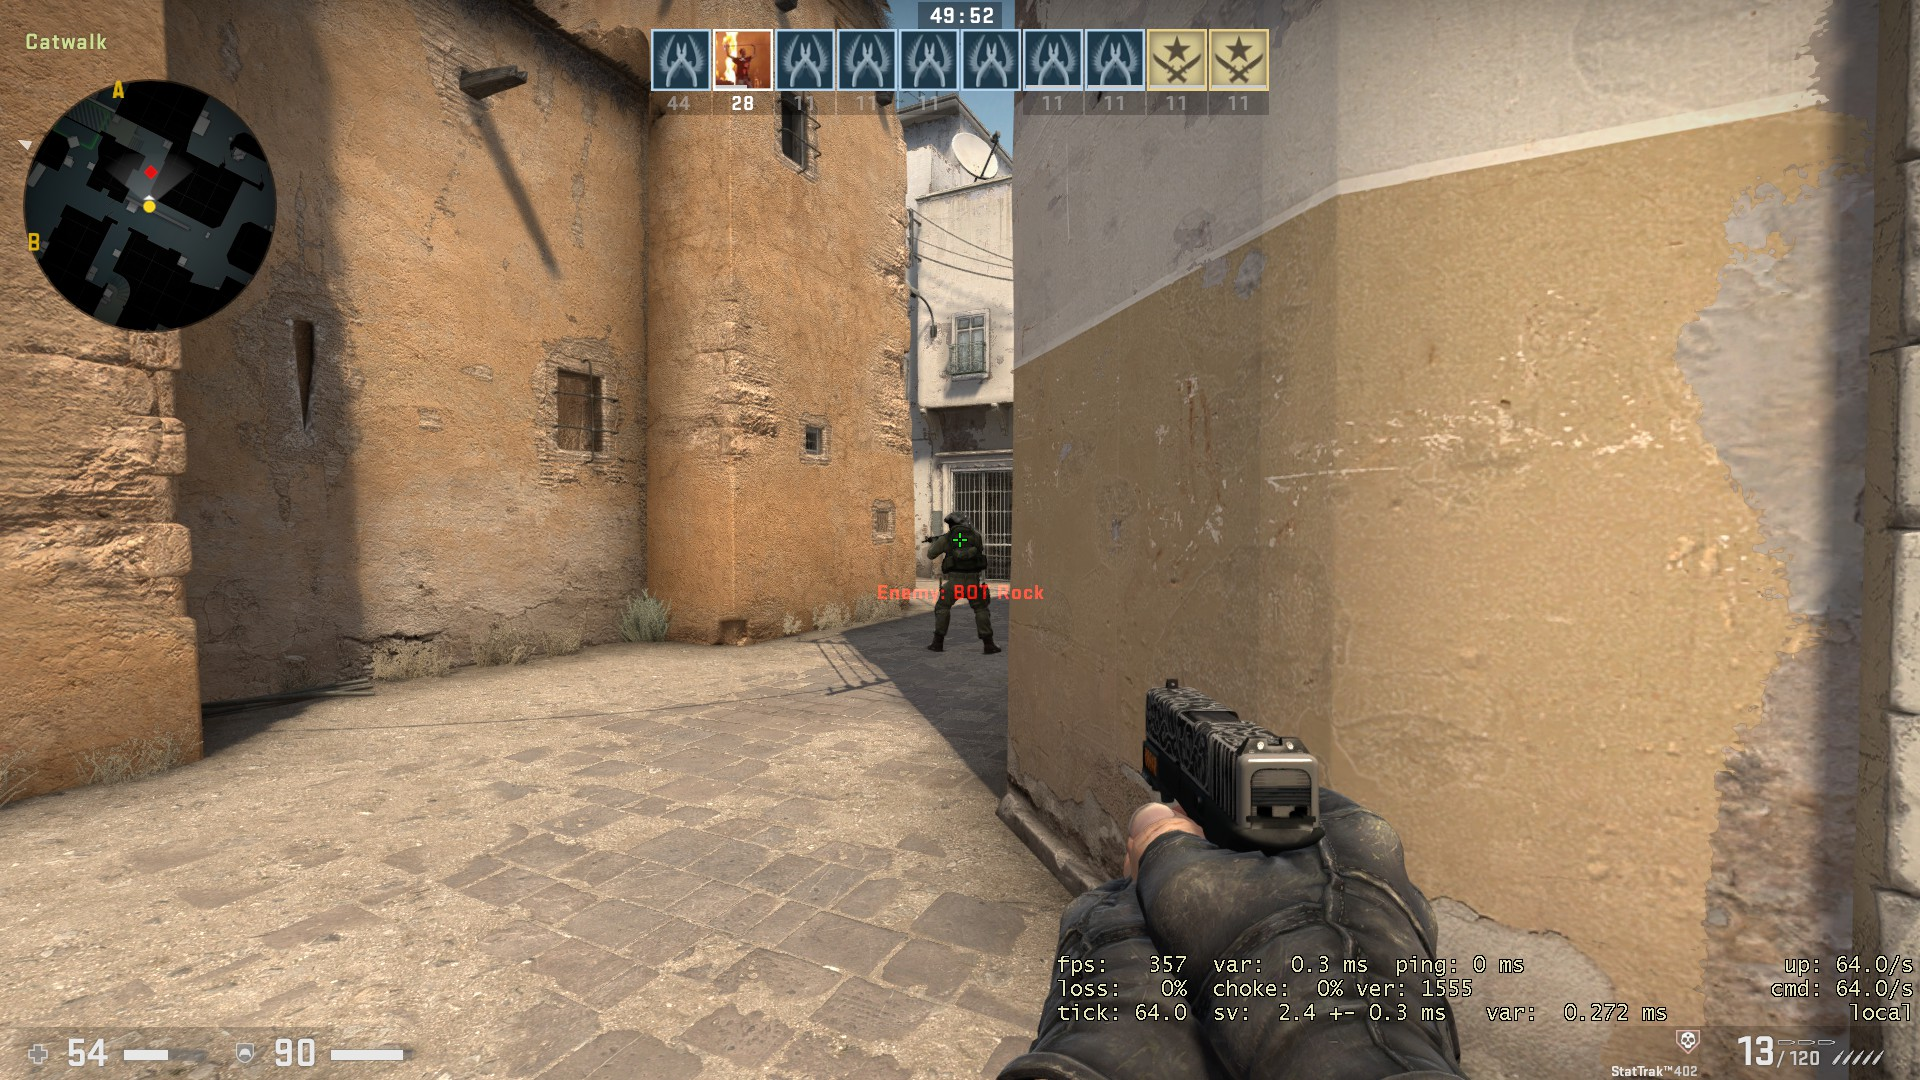player: (914, 502, 1008, 660)
